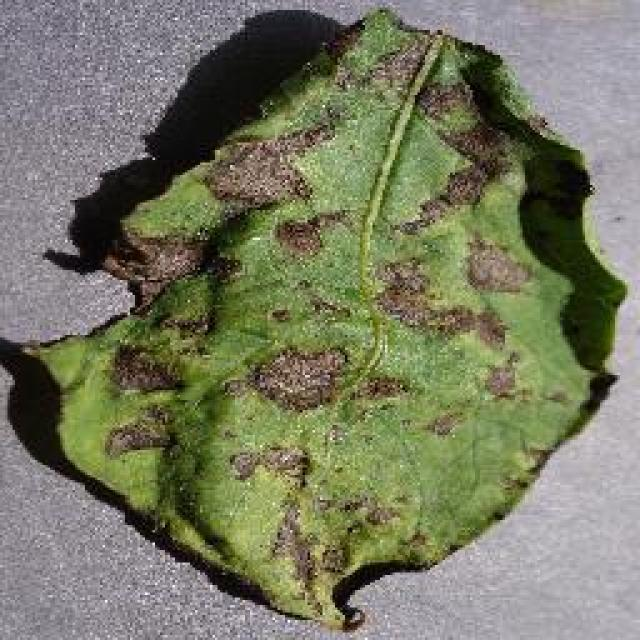Potato___Early_blight: (22, 5, 631, 630)
